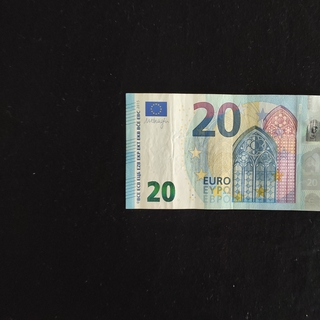20EUROFront: (125, 92, 320, 212)
